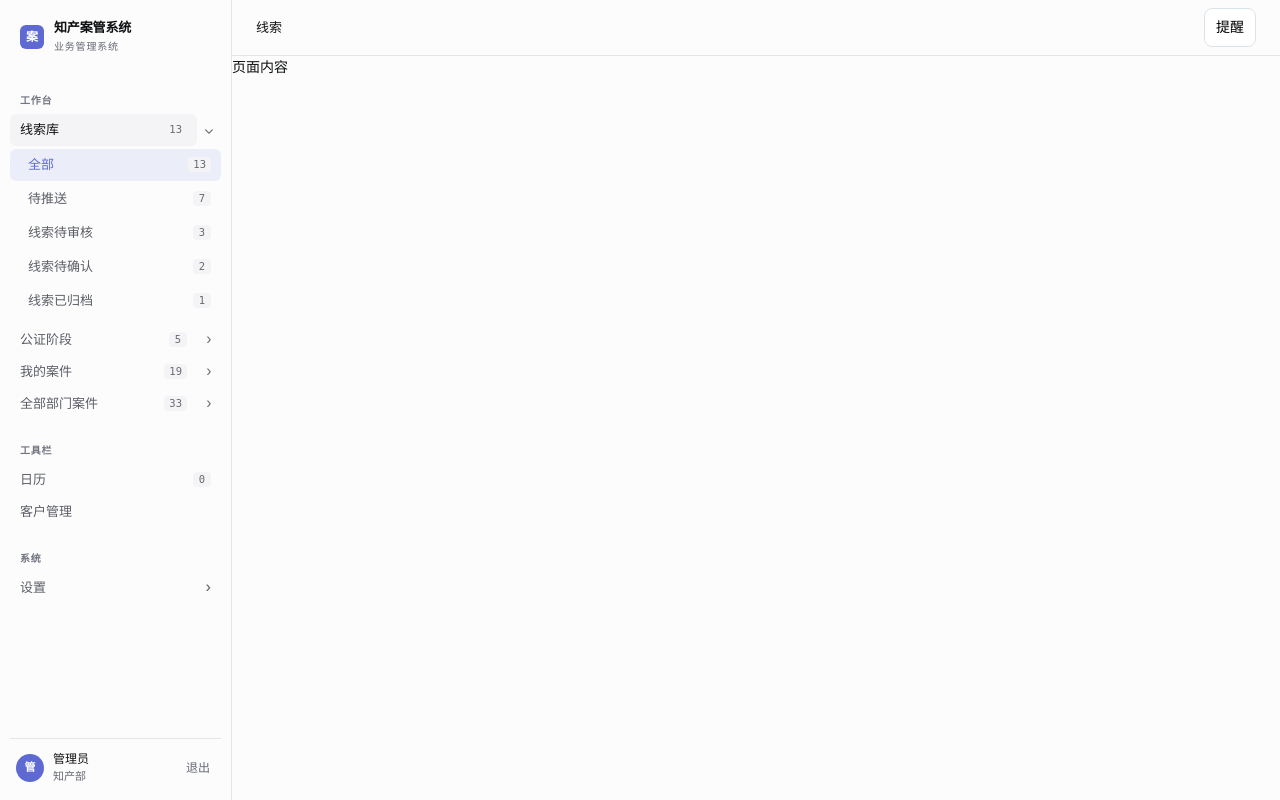
Test: AppShell › renders authorized navigation and route breadcrumbs
Expected: the navigation bar with test id "breadcrumbs" reads "线索", x1=256 y1=19 x2=282 y2=35
Click the button with test id "settings-expand". click: [116, 588]
box: x1=10 y1=572 x2=221 y2=604
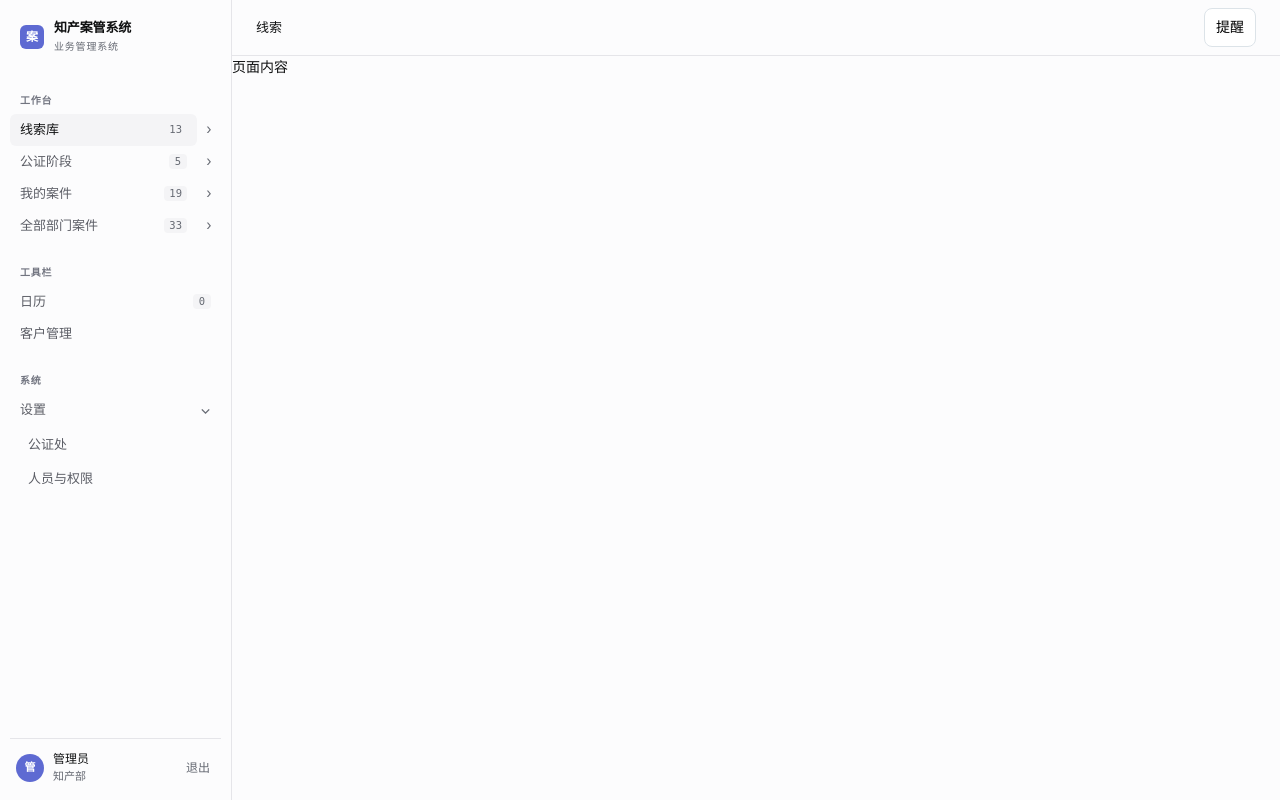
Expected: the text with test id "page-content" reads "页面内容", x1=232 y1=58 x2=288 y2=75
Expected: the link with test id "people-access-nav" is shown, x1=28 y1=470 x2=93 y2=486
Expected: the link with test id "notary-offices-nav" is shown, x1=28 y1=436 x2=67 y2=452
